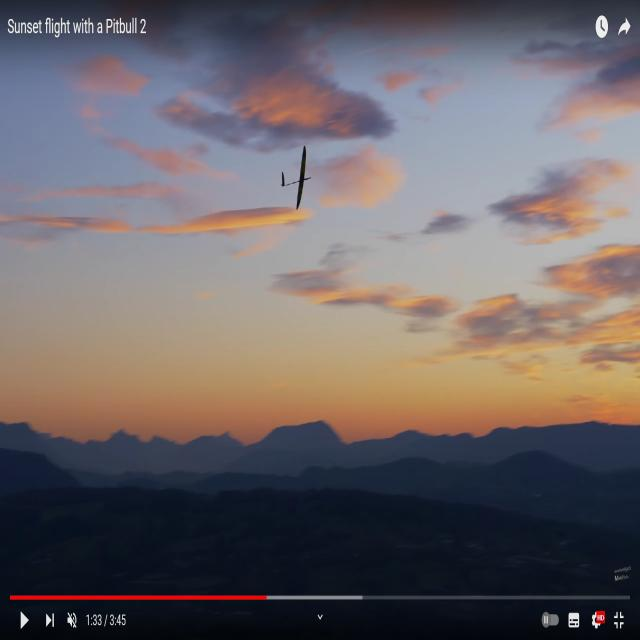iha: (282, 176, 310, 188)
